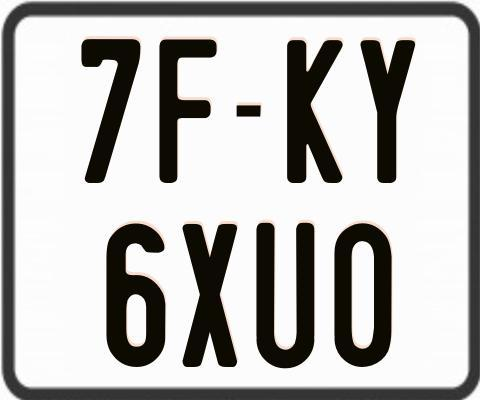0: (334, 221, 397, 366)
6: (104, 221, 164, 367)
7: (81, 38, 142, 185)
F: (158, 37, 216, 181)
K: (287, 37, 346, 186)
U: (254, 223, 317, 374)
X: (180, 223, 236, 367)
Y: (361, 38, 417, 184)
